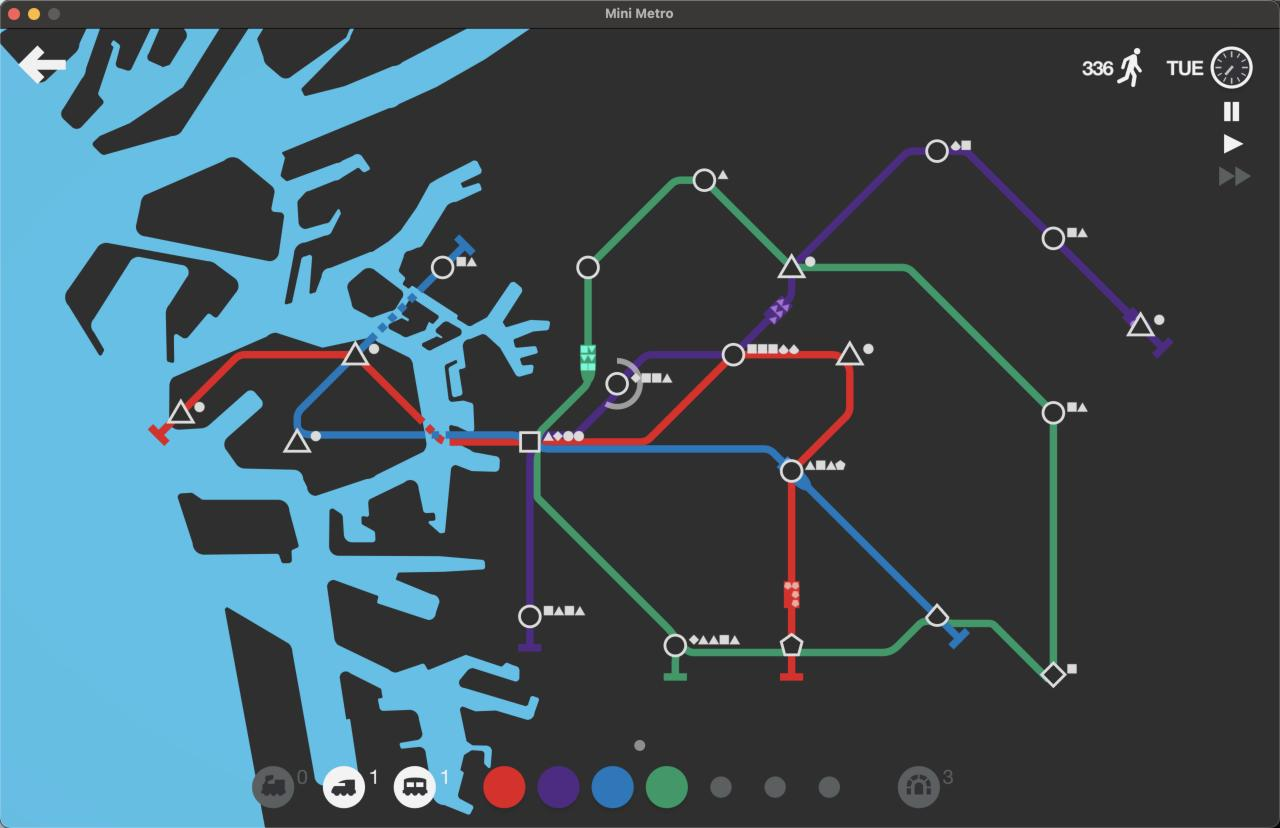CIRCLE: (779, 458, 805, 484), (605, 371, 630, 397), (692, 168, 718, 193), (517, 604, 543, 629), (925, 138, 950, 164), (1041, 400, 1066, 426), (430, 255, 455, 279), (575, 255, 600, 279), (721, 342, 745, 367), (1042, 226, 1066, 251), (663, 633, 687, 658)
GEM: (1040, 661, 1066, 688)
PENTAGON: (779, 632, 803, 657)
SQUARE: (519, 430, 541, 453)
TRIANGLE: (777, 252, 808, 280), (835, 339, 866, 366), (1125, 311, 1156, 338), (168, 397, 195, 426), (283, 428, 312, 454), (341, 341, 370, 366)
WEDGE: (925, 603, 950, 627)
